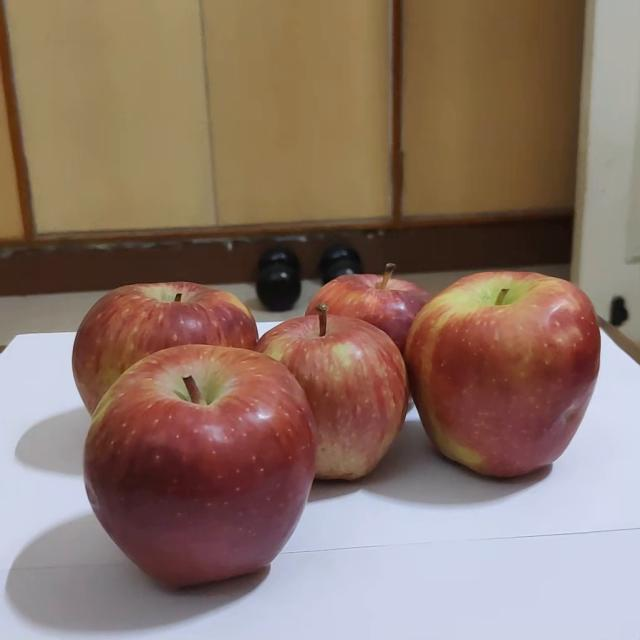apple: (86, 340, 319, 587), (69, 247, 264, 434), (427, 267, 613, 461), (252, 305, 419, 471), (299, 245, 440, 381)
